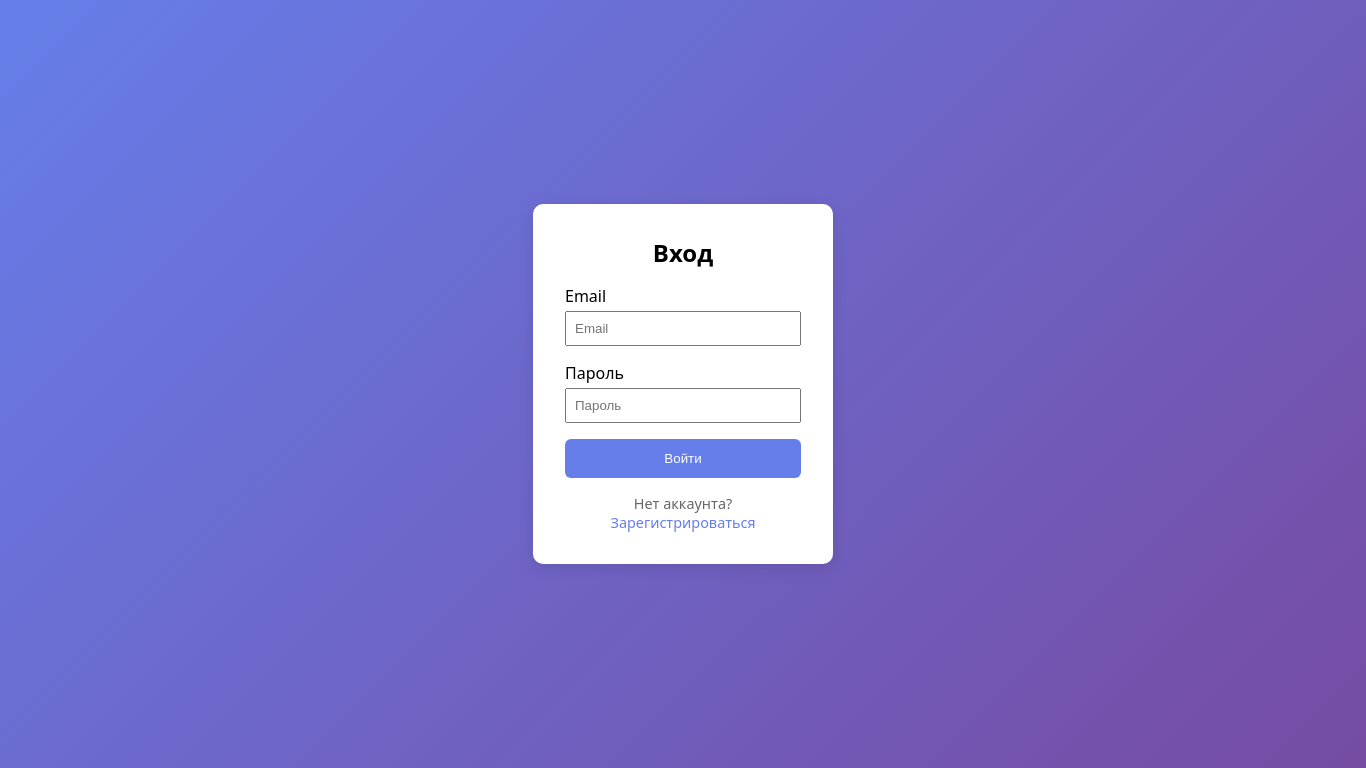
Test: LoginPage › неуспешный login показывает ошибку
In the field with placeholder "Email": (683, 328) x1=565 y1=311 x2=801 y2=346, type "wrong@test.com"
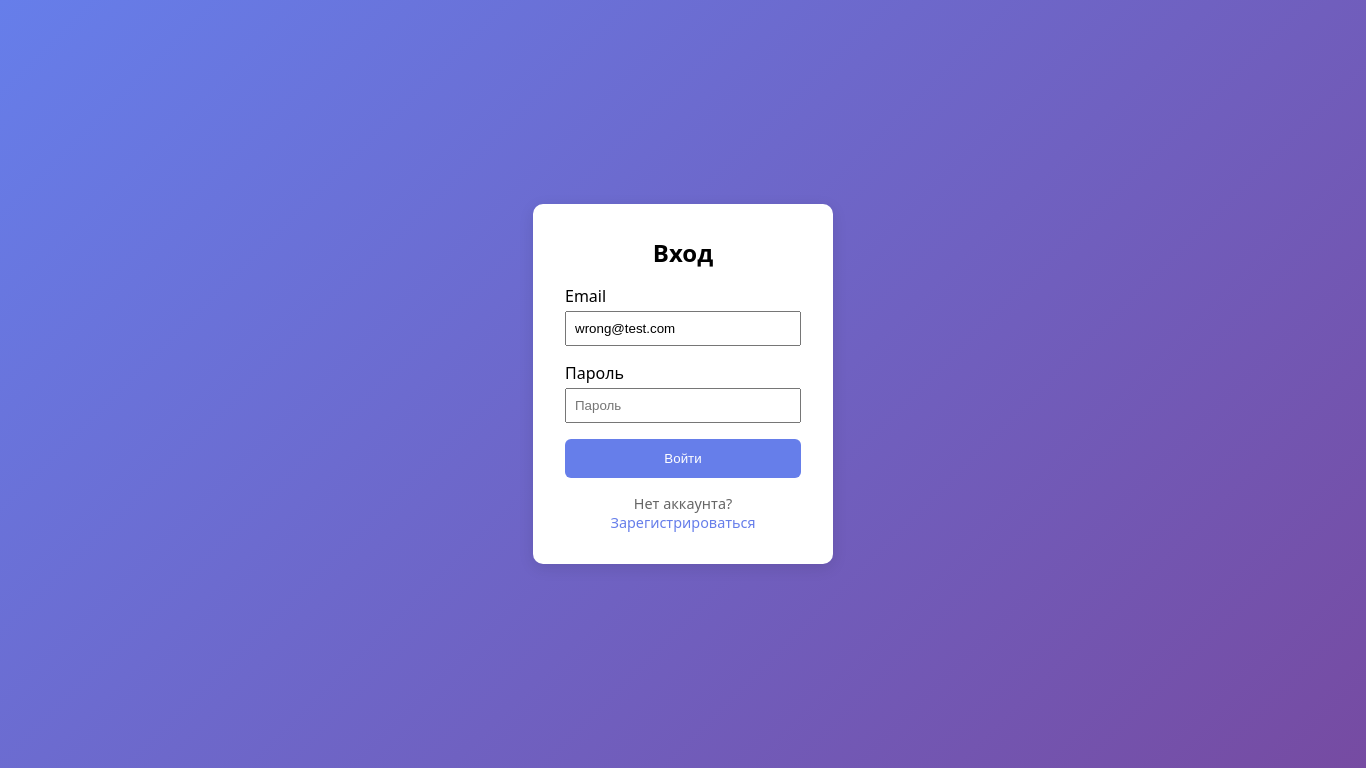
In the password field with placeholder "Пароль": (683, 406) x1=565 y1=388 x2=801 y2=423, type "wrongpass"
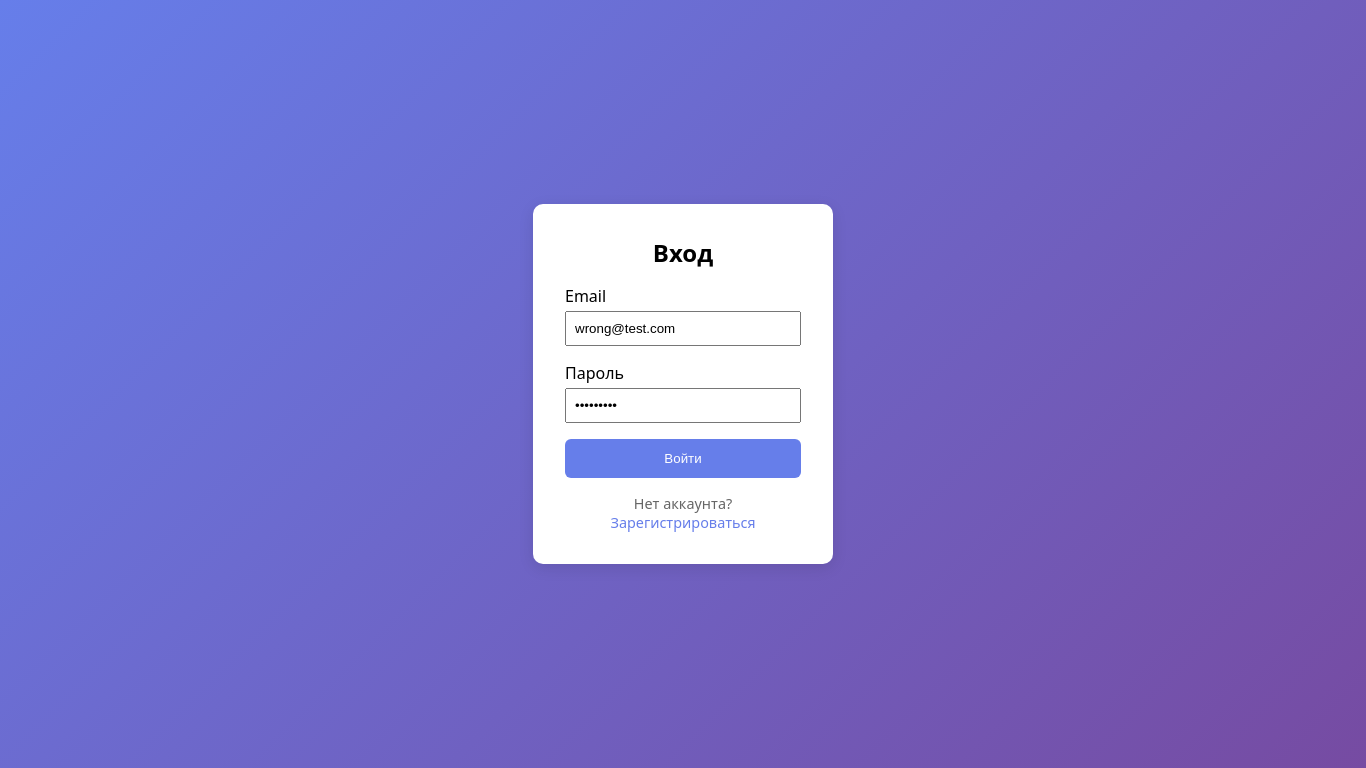
Click the button "Войти": click(683, 458) x1=565 y1=439 x2=801 y2=478
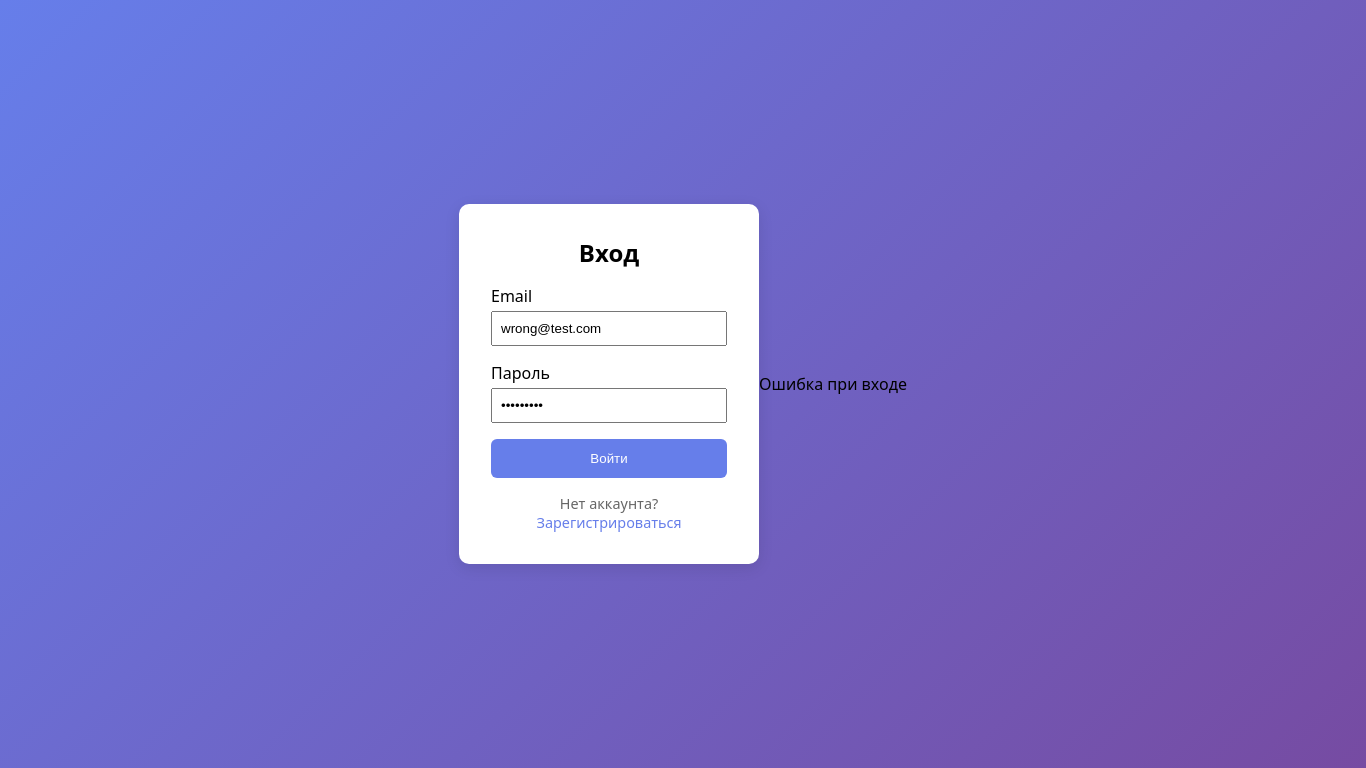
Check: the message "Ошибка при входе" is shown, box x1=759 y1=373 x2=907 y2=395
